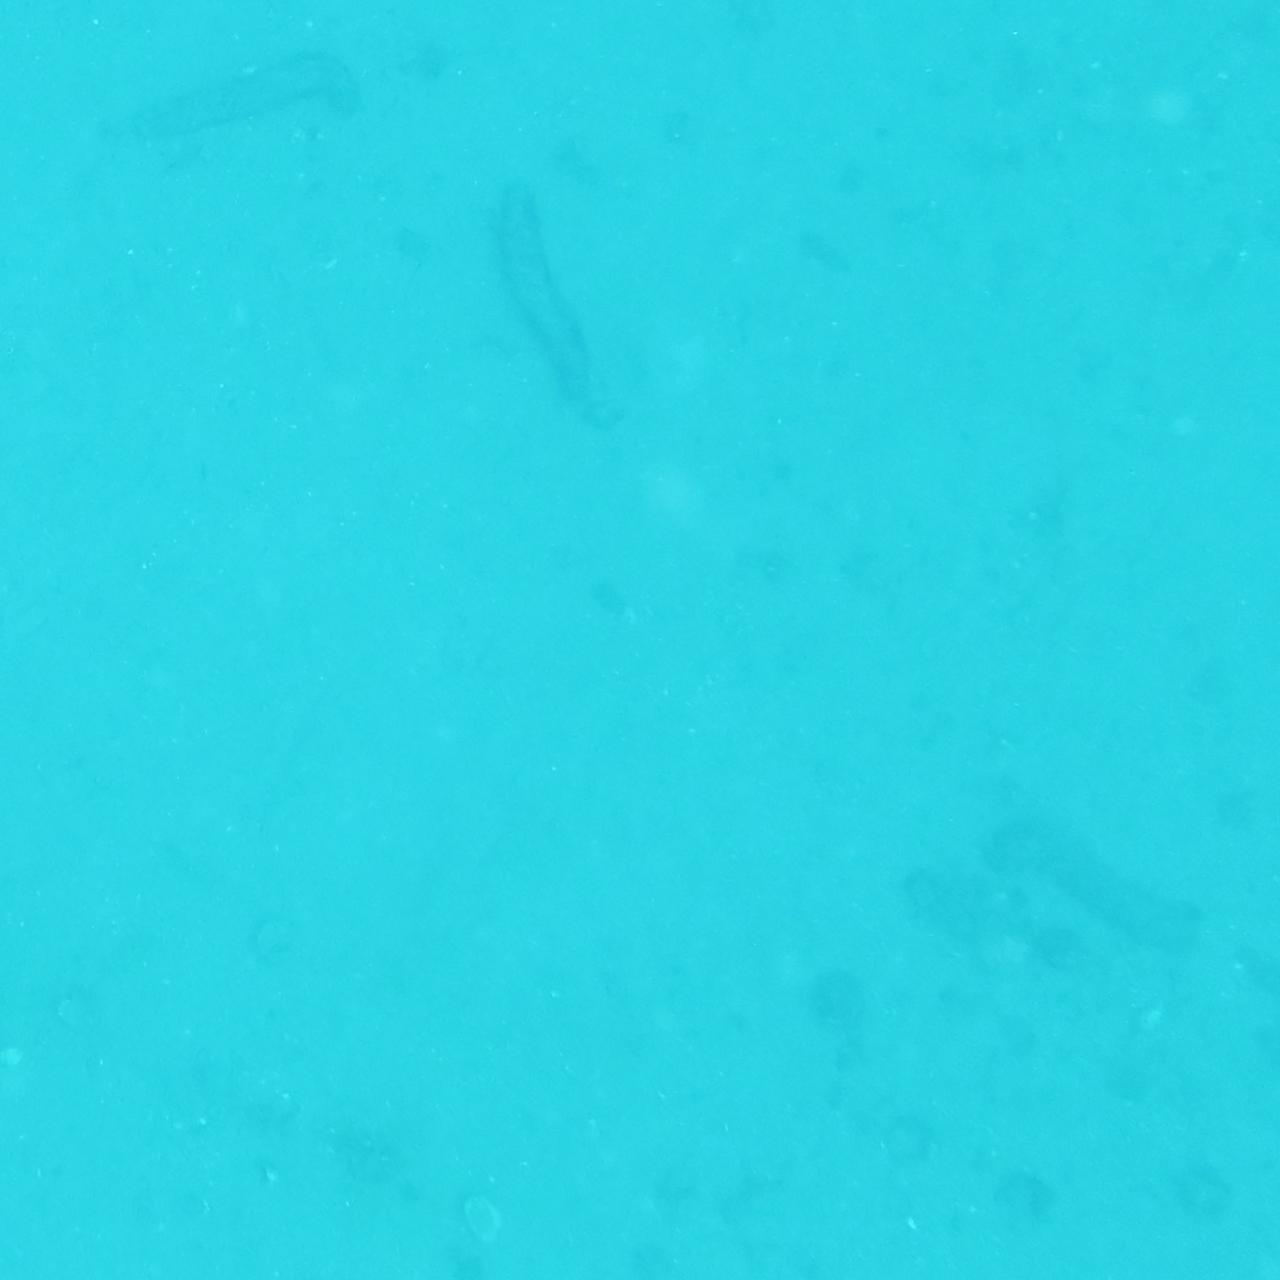Holothuria tubulosa: (451, 158, 617, 431), (986, 803, 1226, 949), (125, 54, 422, 151), (765, 1228, 1087, 1280), (81, 0, 270, 84)
